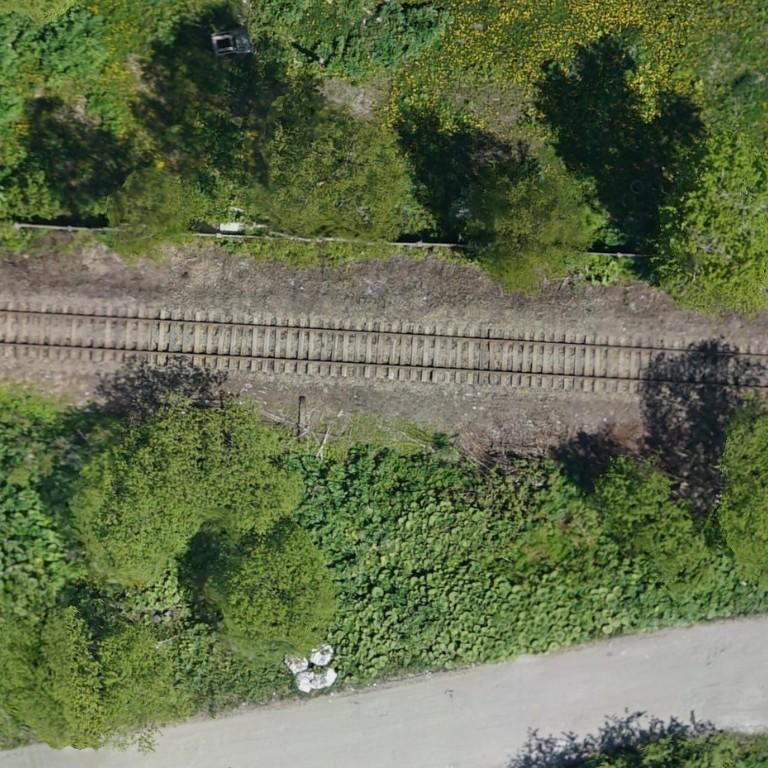hogweed: (291, 446, 458, 575), (0, 11, 108, 79), (370, 4, 451, 70), (317, 32, 365, 77), (85, 95, 121, 131)
